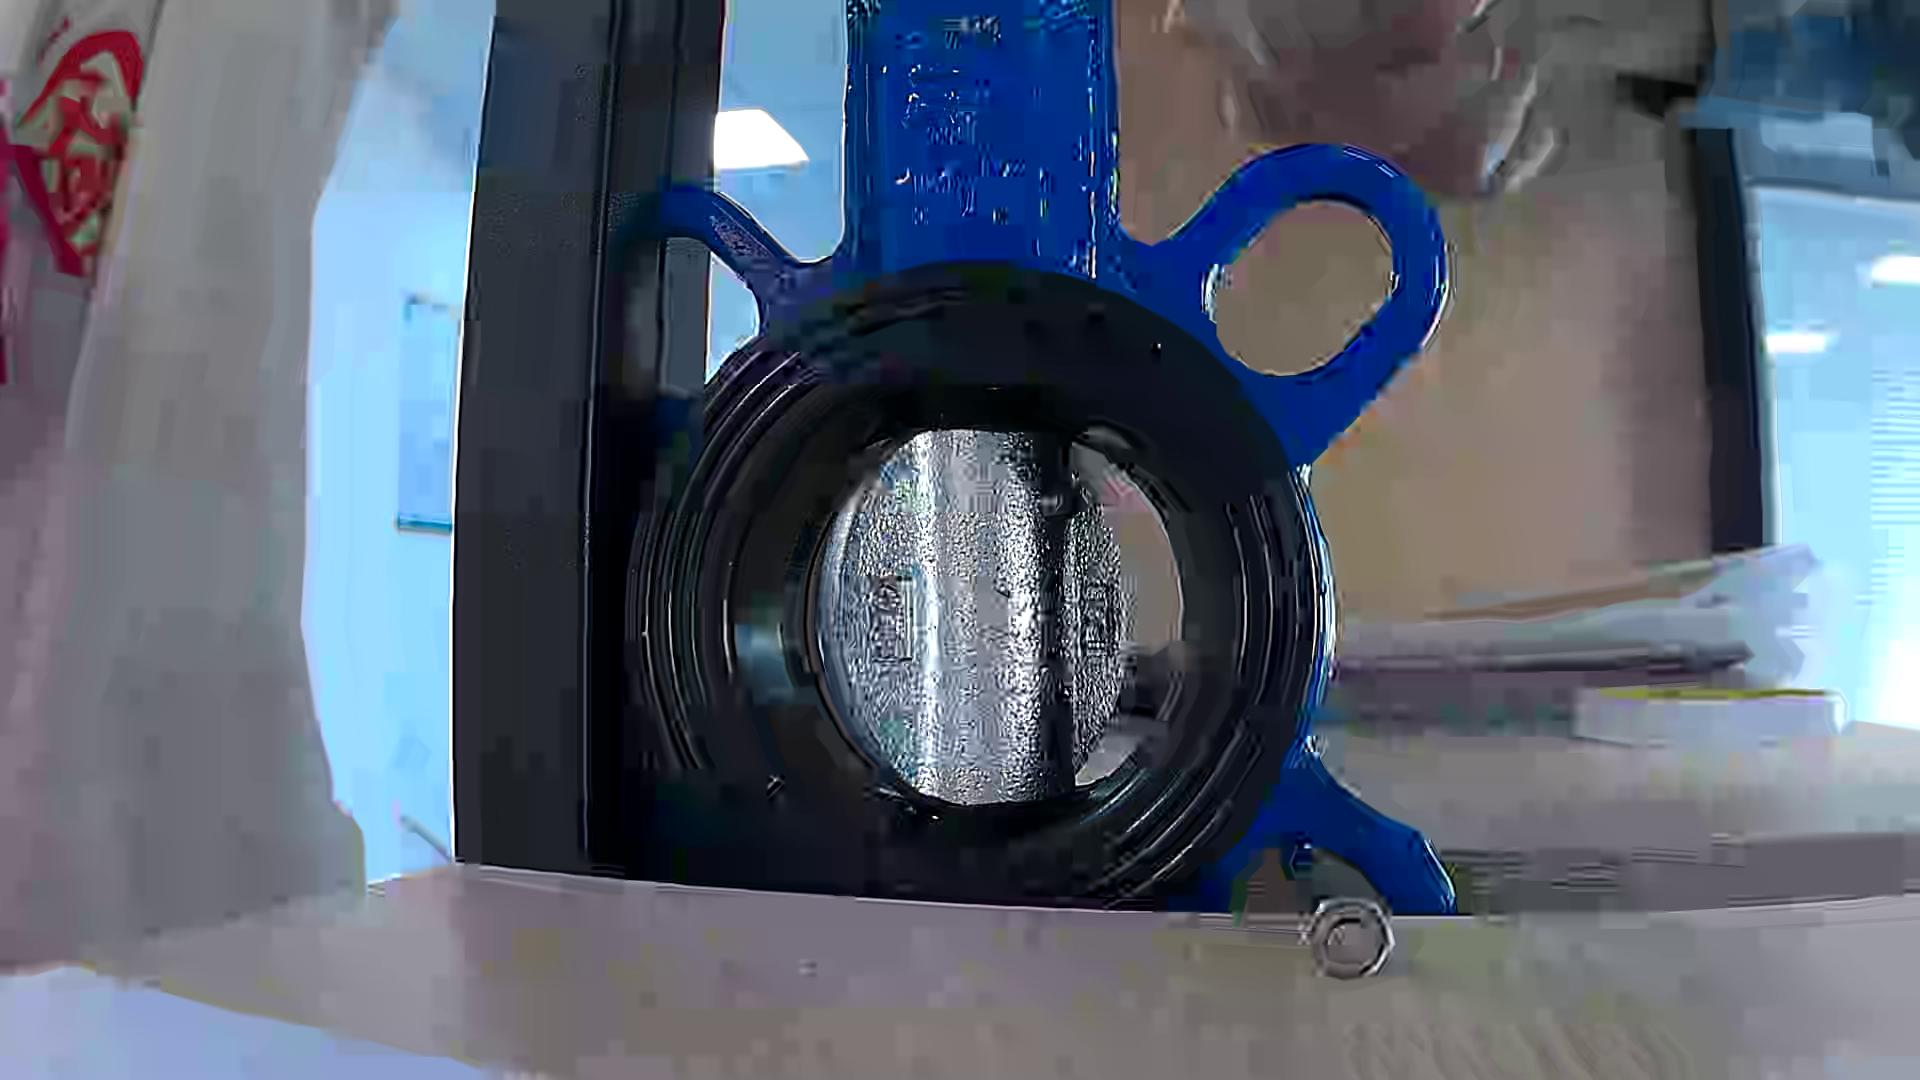valve: (818, 428, 1129, 806)
